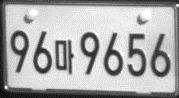5: (126, 32, 146, 76)
6: (149, 32, 171, 78), (31, 31, 53, 74), (102, 32, 123, 76)
9: (9, 29, 31, 73), (79, 30, 100, 75)
마: (53, 39, 75, 74)
